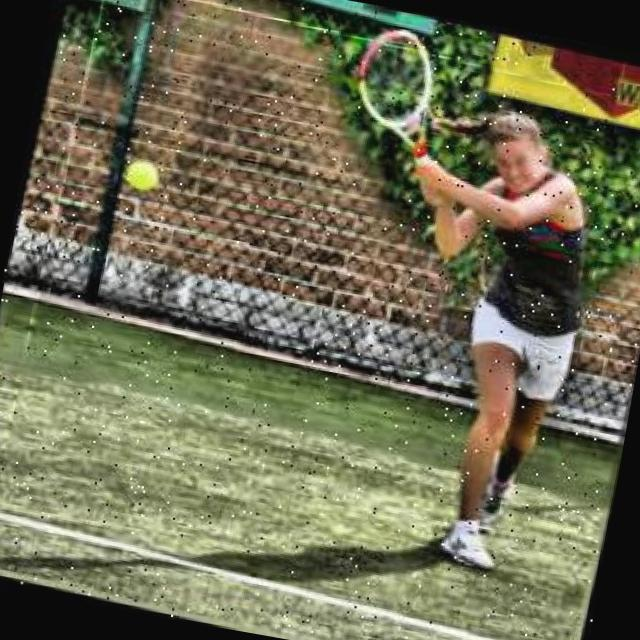Tennis Ball: (122, 155, 160, 190)
